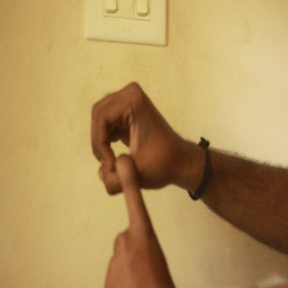Q: (82, 79, 186, 288)
